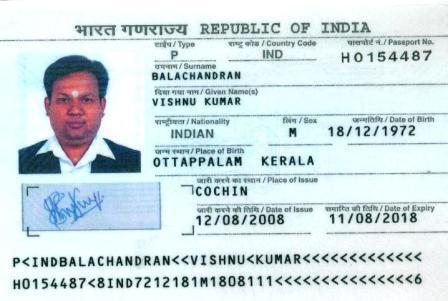DOB: (326, 124, 420, 138)
Surname: (149, 68, 247, 83)
country_code: (257, 44, 290, 61)
date_of_expiry: (326, 209, 423, 227)
date_of_issue: (194, 214, 291, 228)
details: (4, 246, 431, 296)
name: (152, 94, 245, 108)
nationality: (150, 125, 247, 142)
passport_no: (337, 50, 432, 65)
photo: (18, 39, 143, 177)
place_of_birth: (150, 155, 320, 169)
place_of_issue: (194, 184, 260, 198)
sex: (290, 127, 304, 139)
sign: (33, 186, 109, 227)
type: (166, 48, 185, 64)
